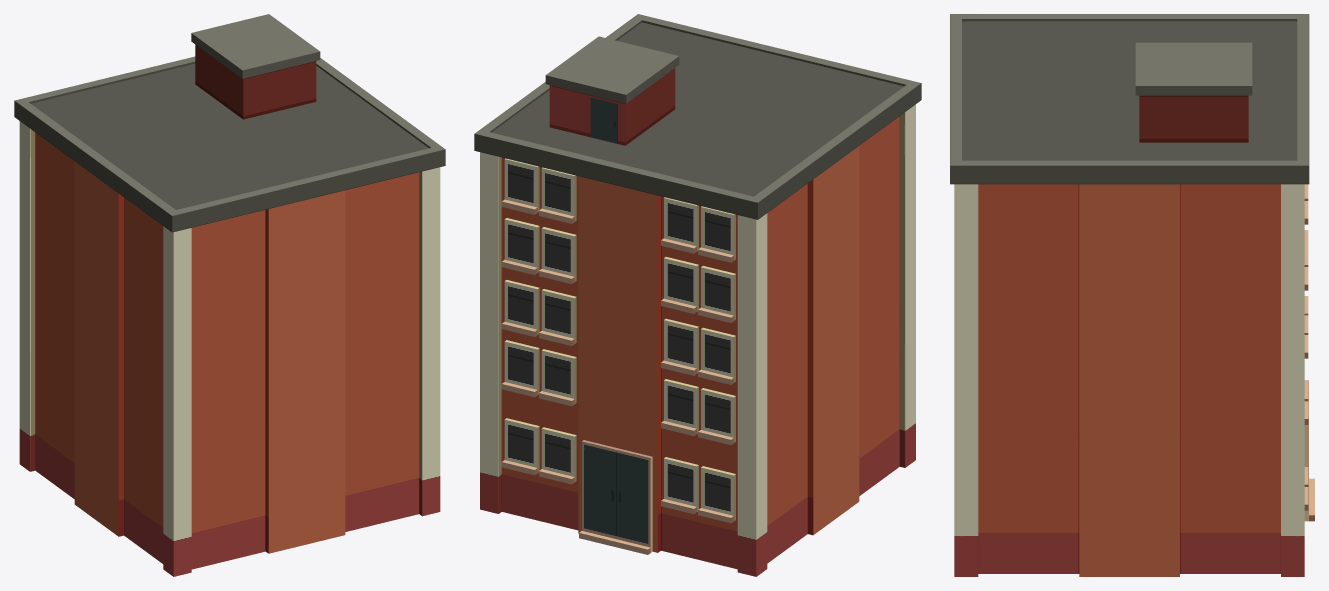
File: apartment_large_mesh.fbx
3 views of the same model, side by side, from view 1: azimuth 30°, elevation 25°; view 2: azimuth 150°, elevation 25°; view 3: azimuth 270°, elevation 25° (orthographic). The views are drawn at different scales.
Parts seen in each view (by area): view 1: apartment_large_mesh; view 2: apartment_large_mesh; view 3: apartment_large_mesh.
Part boxes in pixels (x1,y1,x2,y2): apartment_large_mesh: [14, 14, 445, 576]; apartment_large_mesh: [474, 14, 921, 576]; apartment_large_mesh: [950, 14, 1314, 576].
Bounding box in the file's own units: 11.63 × 16.75 × 11.82.
